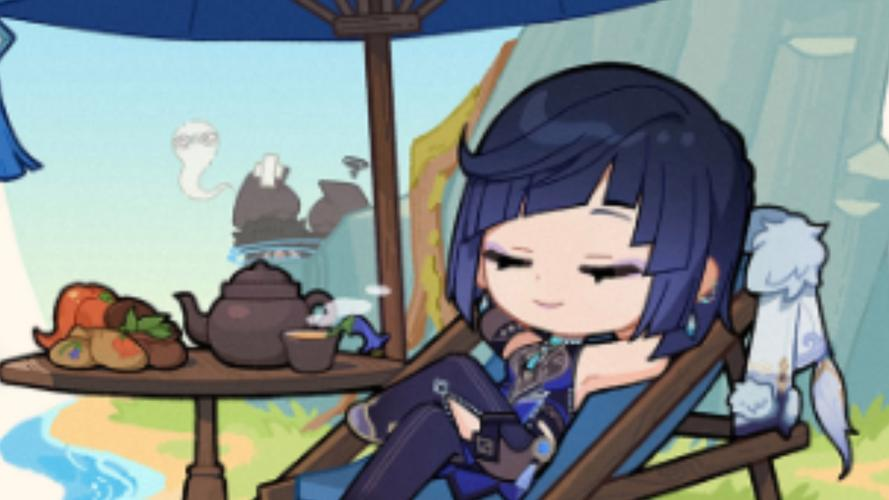夜兰: (328, 62, 757, 499)
